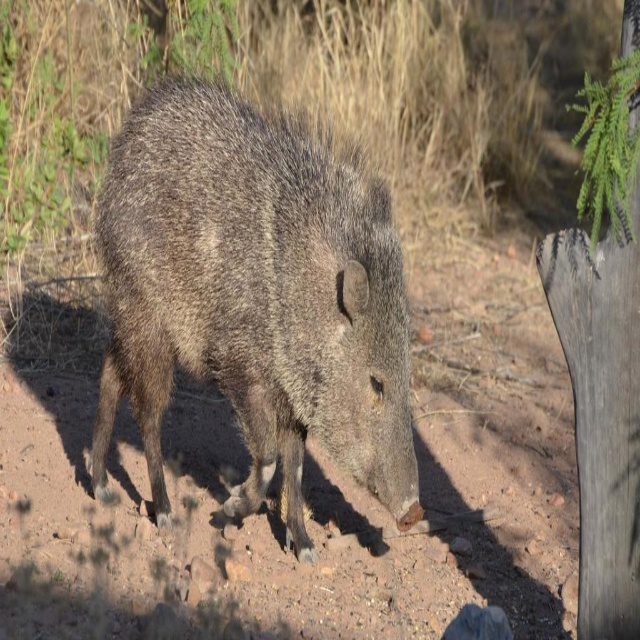Pig: (87, 63, 423, 565)
